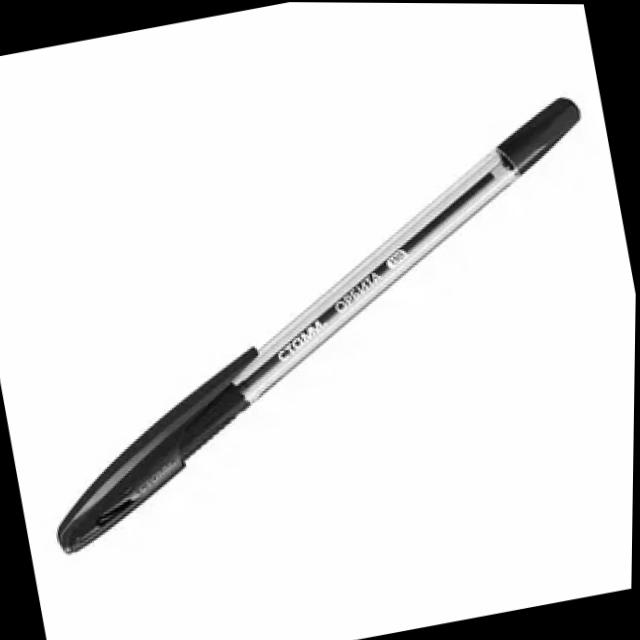pen: (0, 88, 639, 562)
